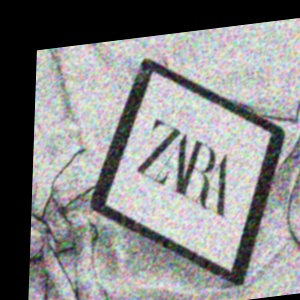zara: (187, 53, 289, 132)
